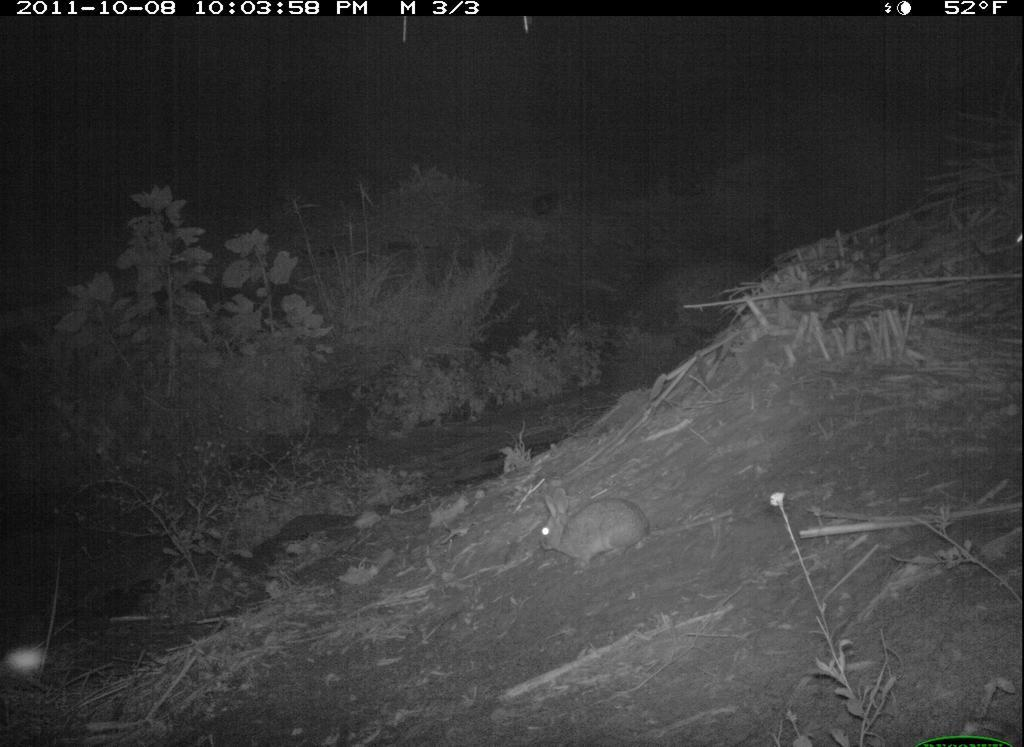rabbit: (521, 463, 669, 573)
